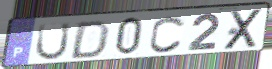0: (113, 15, 145, 58)
2: (186, 12, 223, 53)
C: (147, 14, 187, 54)
D: (68, 19, 112, 61)
U: (33, 21, 73, 62)
X: (222, 7, 266, 52)
